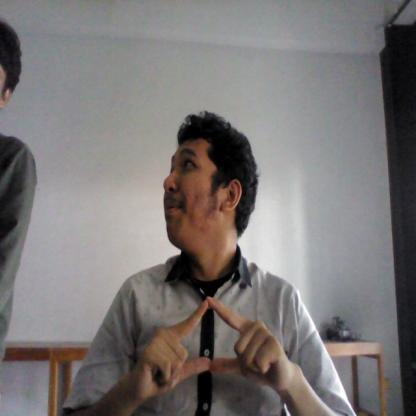A: (136, 295, 288, 394)
